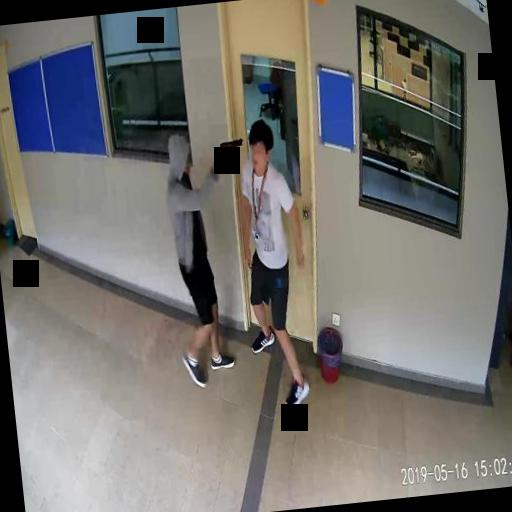Handgun: (218, 138, 244, 168)
